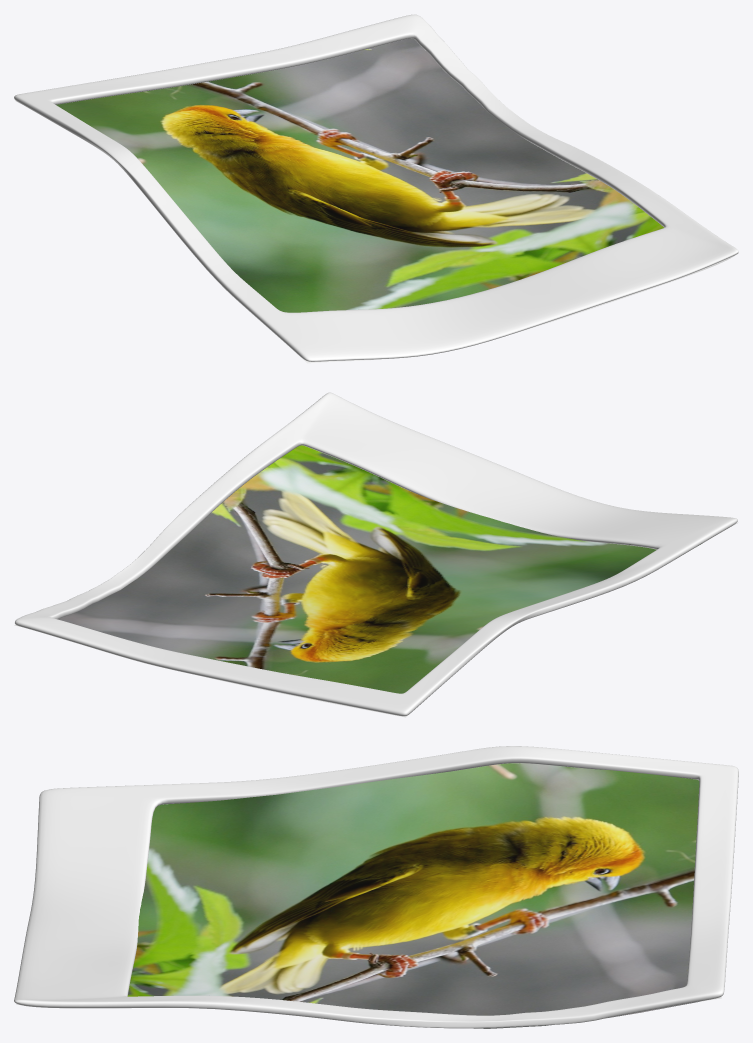
File: gltff.glb
The picture shows the model from 3 angles, top to bottom: view 1: azimuth 30°, elevation 25°; view 2: azimuth 150°, elevation 25°; view 3: azimuth 270°, elevation 25°; orthographic projection. The views are drawn at different scales.
Size of the model in its own units: 9.74 by 1.59 by 13.02.
2 materials, 1 textured.
